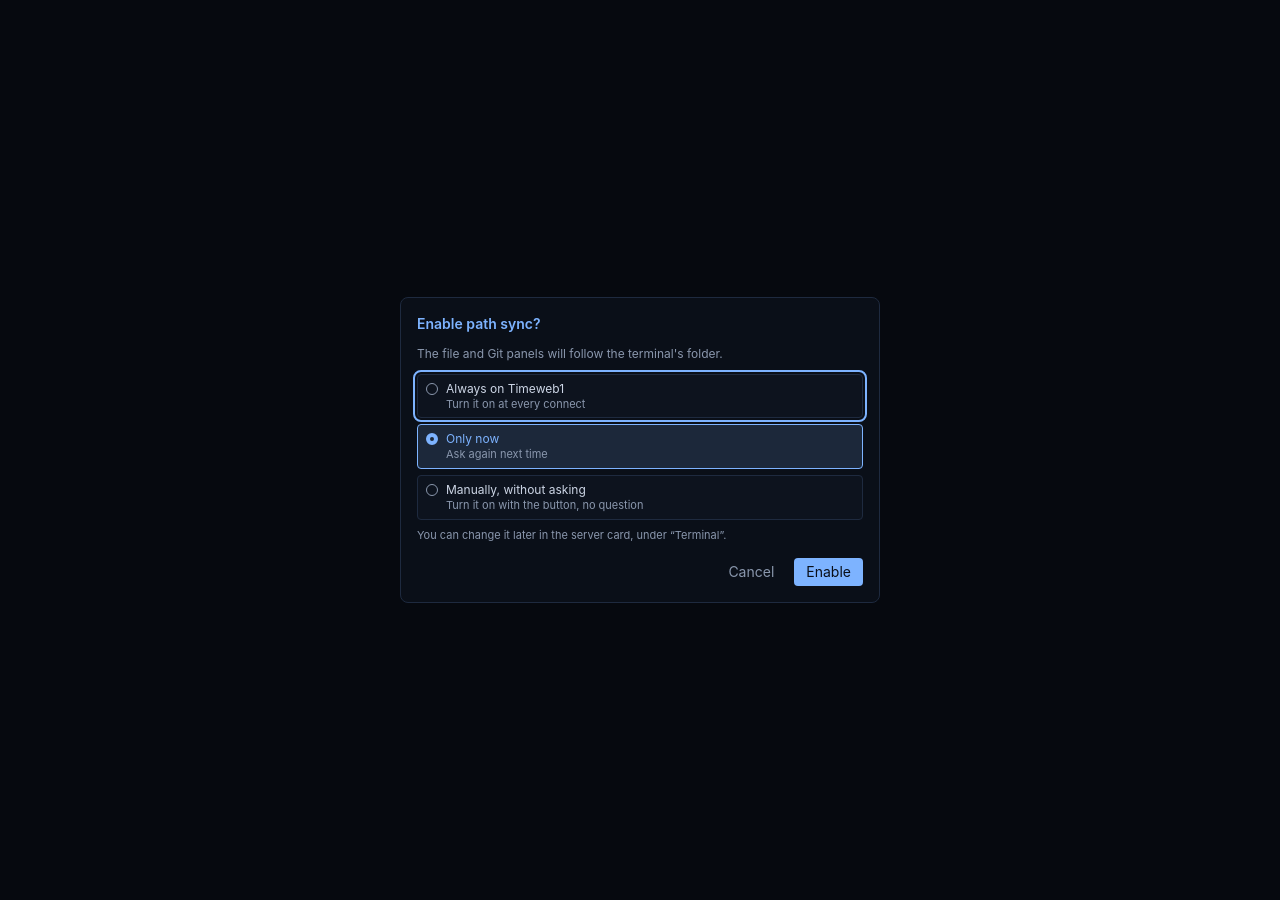
PathSyncDialog › shows the command a lasting answer would type, even when this shell reports its folder
Check: the text "The file and Git panels will follow the terminal's folder." is shown, box [417,346,723,361]
Click the radio button with test id "path-sync-always" at x=505, y=388, box [417,374,863,418]
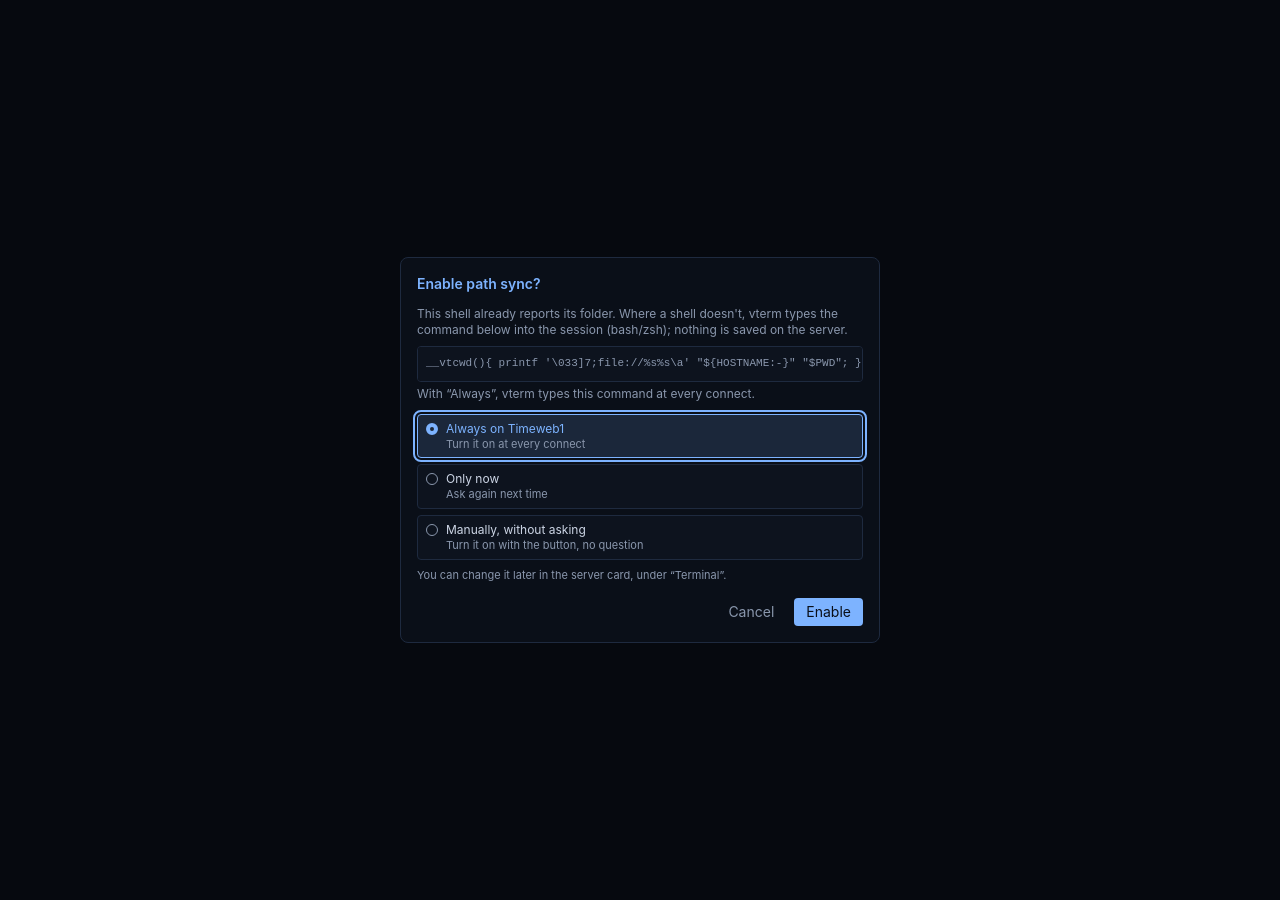
Check: the text with test id "path-sync-setup" is shown, box [417,346,863,382]
Check: the text "already reports its folder" is shown, box [417,306,848,337]
Check: the text "With “Always”, vterm types this command at every connect." is shown, box [417,386,755,401]
